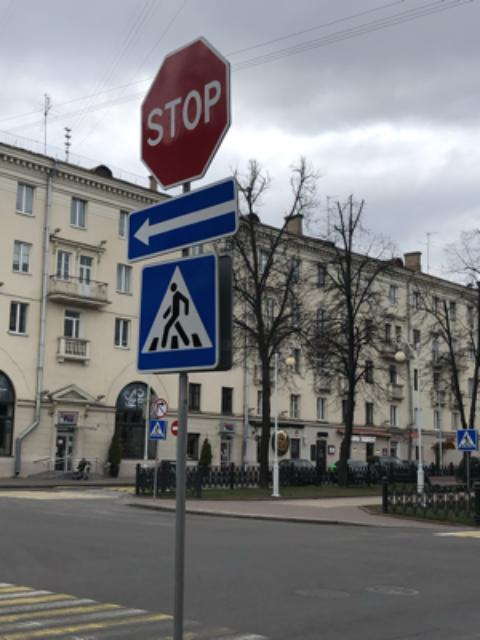crosswalk-sign: (136, 253, 222, 374)
